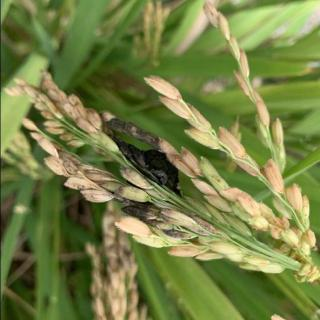Gosong-Palsu: (124, 145, 180, 196)
